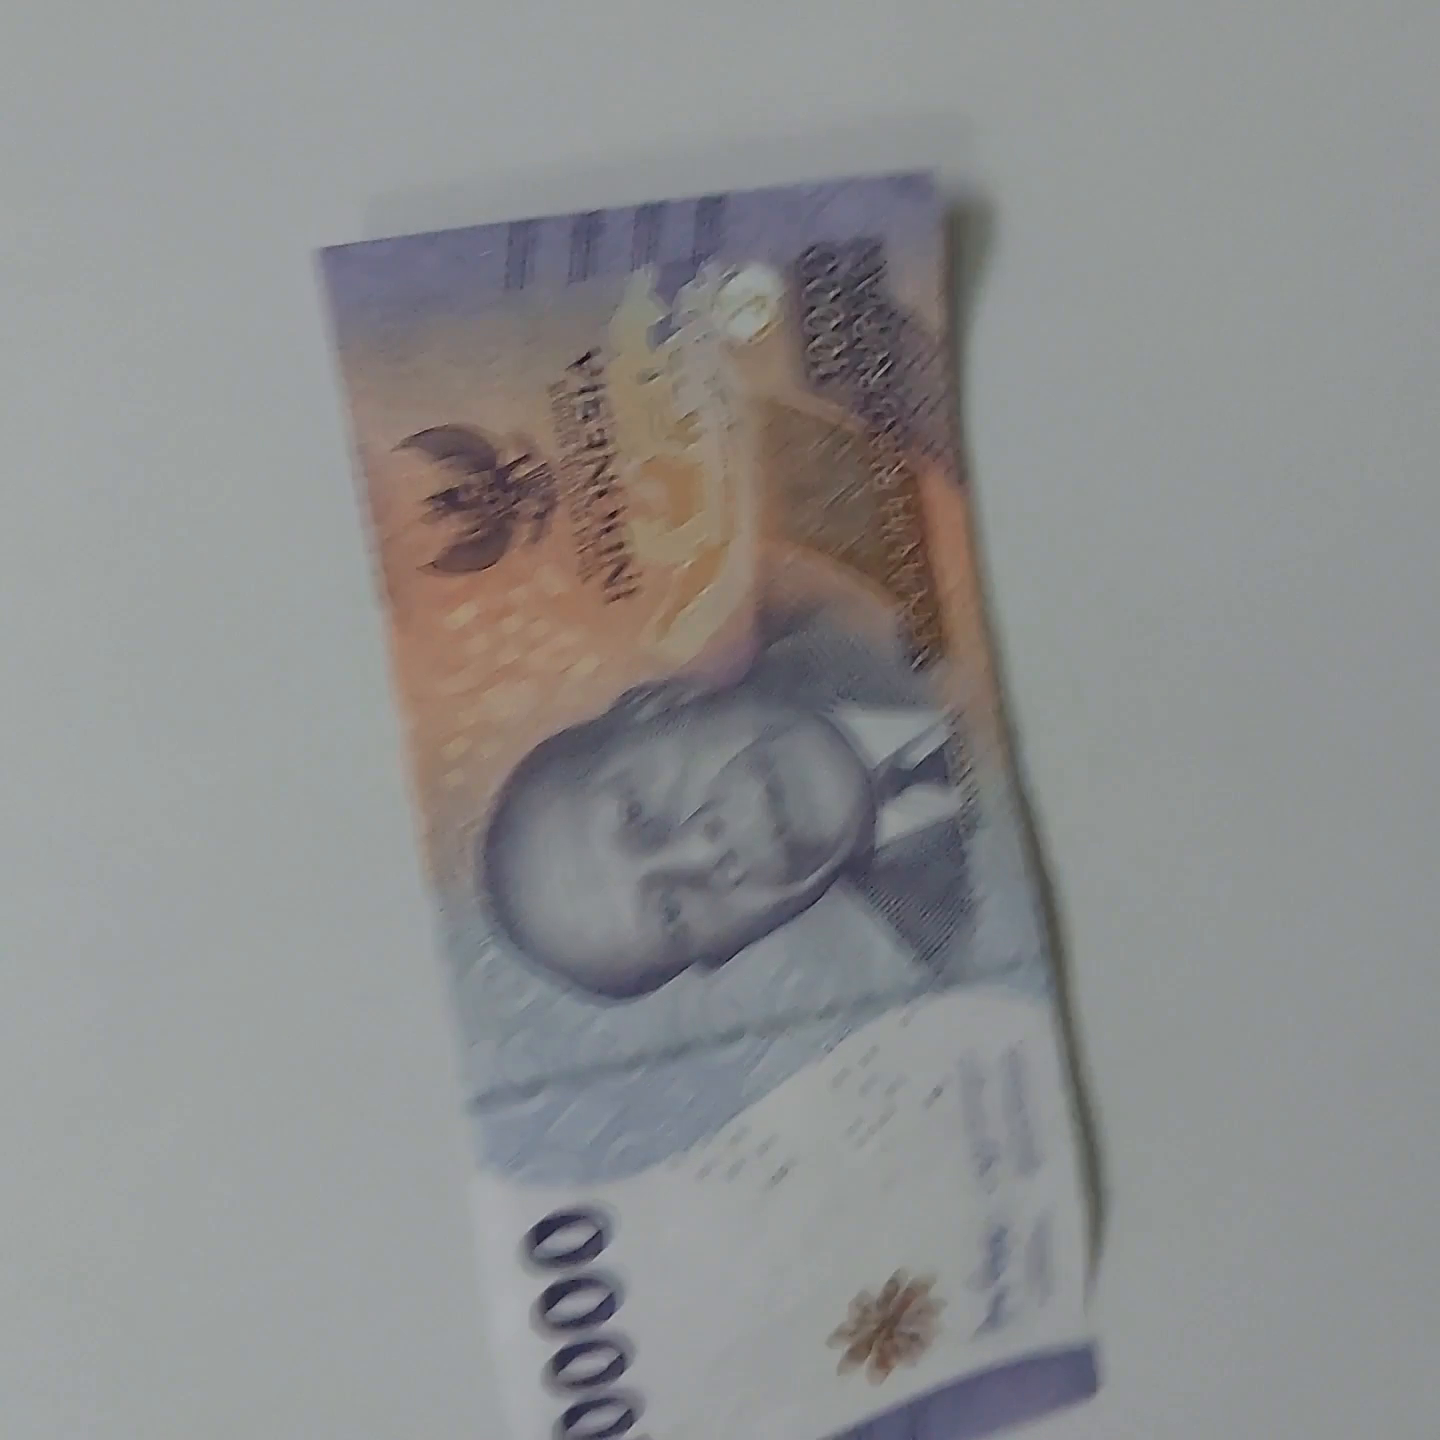10k: (281, 167, 1109, 1440)
